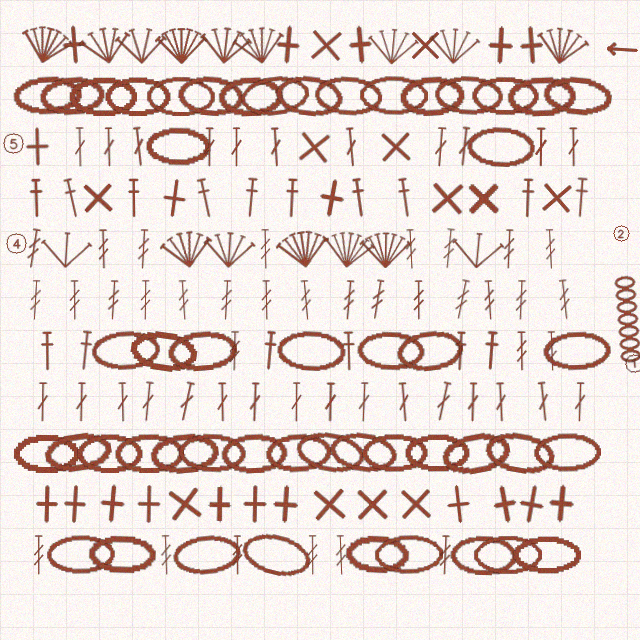chain: (238, 527, 314, 582), (438, 427, 513, 479), (293, 427, 368, 478), (482, 427, 557, 478), (41, 428, 114, 477), (327, 428, 400, 477), (127, 326, 199, 375), (238, 72, 311, 120), (273, 72, 346, 119), (394, 327, 465, 374), (541, 73, 613, 119), (148, 430, 220, 476), (171, 532, 242, 578), (166, 328, 238, 373), (176, 73, 246, 118), (433, 74, 505, 117), (90, 329, 162, 372), (313, 74, 383, 118), (264, 431, 334, 475), (276, 329, 347, 372), (38, 74, 107, 118), (12, 74, 82, 117), (398, 74, 467, 117), (466, 125, 535, 168), (506, 75, 576, 117), (356, 330, 426, 372), (449, 534, 519, 576), (542, 330, 611, 372), (177, 432, 246, 474), (220, 432, 289, 474), (344, 533, 411, 576), (46, 534, 116, 575), (217, 75, 285, 117), (359, 75, 428, 116), (87, 534, 156, 575), (374, 534, 443, 575), (146, 76, 216, 116), (114, 433, 184, 473), (533, 432, 601, 473), (68, 76, 137, 116), (471, 76, 540, 116), (473, 535, 542, 575), (512, 535, 581, 575), (145, 126, 212, 167), (104, 76, 172, 116), (12, 433, 80, 473), (76, 433, 144, 473), (361, 433, 429, 473), (404, 433, 471, 473)
double: (176, 381, 197, 422), (433, 381, 454, 422), (130, 126, 147, 167), (456, 126, 473, 167), (535, 381, 552, 422), (432, 127, 449, 167), (140, 381, 156, 422), (343, 127, 359, 167), (396, 382, 412, 422), (268, 127, 283, 167), (73, 127, 87, 167), (102, 127, 116, 167), (534, 127, 548, 167), (248, 382, 262, 422), (357, 382, 371, 422), (466, 382, 480, 422), (494, 382, 508, 422), (573, 382, 587, 422), (203, 127, 216, 167), (230, 127, 243, 167), (567, 127, 580, 167), (36, 382, 49, 422), (75, 382, 88, 422), (116, 382, 129, 422), (216, 382, 229, 422), (290, 382, 303, 422), (324, 382, 337, 422)
enseble_chain: (612, 275, 640, 365)
fan: (16, 19, 77, 70), (76, 20, 135, 69), (533, 21, 592, 69), (230, 21, 288, 68), (158, 225, 216, 272), (274, 225, 332, 272), (320, 225, 378, 272), (197, 22, 254, 67), (365, 23, 421, 67), (450, 227, 506, 271), (427, 23, 482, 66), (39, 227, 94, 270), (202, 227, 257, 270), (114, 24, 168, 65), (155, 25, 208, 65), (359, 229, 412, 269)
half_double: (193, 177, 217, 219), (60, 177, 83, 219), (349, 177, 369, 218), (395, 177, 415, 218), (76, 330, 95, 371), (242, 177, 260, 218), (572, 177, 590, 218), (261, 330, 279, 371), (482, 330, 500, 371), (519, 178, 536, 218), (452, 331, 469, 371), (28, 178, 44, 218), (284, 178, 300, 218), (39, 331, 55, 371), (126, 178, 141, 218), (341, 331, 356, 371)
noise: (4, 231, 29, 256), (1, 131, 26, 156), (604, 42, 638, 57), (622, 351, 640, 376), (611, 223, 631, 243)
single: (309, 175, 355, 221), (482, 481, 528, 527), (508, 481, 554, 527), (162, 481, 207, 526), (292, 125, 336, 169), (152, 176, 196, 220), (436, 482, 480, 526), (53, 23, 96, 66), (266, 23, 309, 66), (339, 23, 382, 66), (535, 176, 578, 219), (91, 482, 134, 525), (540, 482, 583, 525), (305, 24, 347, 66), (479, 24, 521, 66), (510, 24, 552, 66), (426, 177, 468, 219), (54, 483, 96, 525), (264, 483, 306, 525), (308, 483, 350, 525), (17, 126, 58, 167), (375, 126, 416, 167), (77, 177, 118, 218), (395, 483, 436, 524), (405, 25, 445, 65), (463, 178, 503, 218), (27, 484, 67, 524), (129, 484, 169, 524), (199, 484, 239, 524), (235, 484, 275, 524), (352, 484, 392, 524)
treble: (452, 279, 472, 320), (24, 228, 43, 269), (368, 279, 387, 320), (556, 279, 573, 320), (441, 228, 457, 269), (298, 280, 314, 320), (341, 280, 357, 320), (136, 229, 151, 269), (543, 229, 558, 269), (28, 280, 43, 320), (106, 280, 121, 320), (176, 280, 191, 320), (219, 280, 234, 320), (482, 280, 497, 320), (404, 229, 418, 269), (502, 229, 516, 269), (514, 280, 528, 320), (545, 331, 559, 371), (159, 535, 173, 575), (334, 535, 348, 575), (438, 535, 452, 575), (97, 229, 110, 269), (259, 229, 272, 269), (68, 280, 81, 320), (139, 280, 152, 320), (260, 280, 273, 320), (412, 280, 425, 320), (228, 331, 241, 371), (515, 331, 528, 371), (32, 535, 45, 575), (231, 535, 244, 575), (306, 535, 319, 575)
